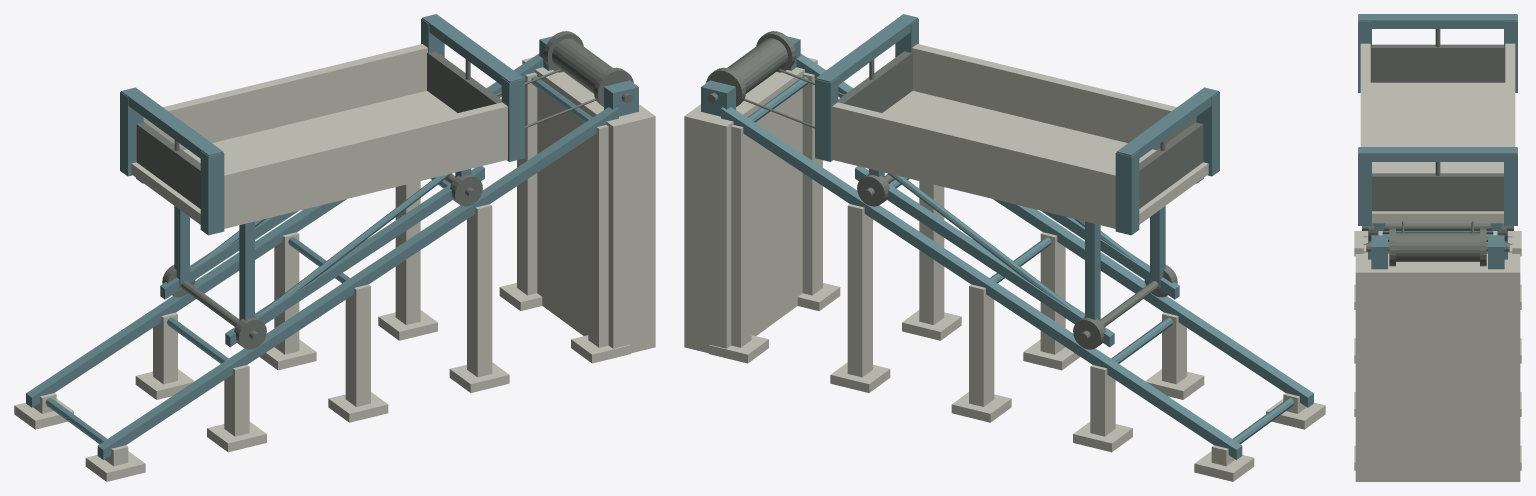
The picture shows the model from 3 angles, left to right: view 1: azimuth 30°, elevation 25°; view 2: azimuth 150°, elevation 25°; view 3: azimuth 270°, elevation 25°; orthographic projection. The views are drawn at different scales.
Parts seen in each view (by area): view 1: WholeLevelCaissonFloorAndSideWalls, WholeUpperHaulFoundation, NearWholeInclinedRail, FarWholeInclinedRail, NearWholeRailSupport4, NearWholeRailSupport3, FarWholeRailSupport4, NearWholeInclinedCarriageSill, NearWholeRailSupport2, LowEndWholeEndGateLeaf, WholeHaulDrum, FarWholeRailSupport3 (+29 smaller); view 2: WholeLevelCaissonFloorAndSideWalls, WholeUpperHaulFoundation, FarWholeInclinedRail, NearWholeInclinedRail, FarWholeRailSupport4, FarWholeRailSupport3, NearWholeRailSupport4, FarWholeInclinedCarriageSill, FarWholeRailSupport2, LowEndWholeEndGateLeaf, WholeHaulDrum, NearWholeRailSupport3 (+29 smaller); view 3: WholeUpperHaulFoundation, WholeLevelCaissonFloorAndSideWalls, LowEndWholeEndGateLeaf, HighEndWholeEndGateLeaf, WholeHaulDrum, LowEndWholeGatePortalCrosshead, HighEndWholeGatePortalCrosshead, HighEndWholeGateGuidePost0, HighEndWholeGateGuidePost1, WholeCarriageTransverseAxle1, WholeHaulBearingSeat0, WholeHaulBearingSeat1 (+5 smaller).
Boxes of the visible parts, box(x1,y1,x2,y2) form: WholeLevelCaissonFloorAndSideWalls: box(131, 44, 507, 228); WholeUpperHaulFoundation: box(522, 57, 655, 353); NearWholeInclinedRail: box(97, 107, 618, 459); FarWholeInclinedRail: box(26, 53, 543, 407); NearWholeRailSupport4: box(588, 125, 608, 347); NearWholeRailSupport3: box(467, 204, 492, 377); FarWholeRailSupport4: box(517, 72, 537, 295); NearWholeInclinedCarriageSill: box(225, 166, 484, 347); NearWholeRailSupport2: box(345, 284, 370, 406); LowEndWholeEndGateLeaf: box(136, 122, 200, 208); WholeHaulDrum: box(543, 31, 633, 106); FarWholeRailSupport3: box(395, 181, 420, 324); WholeLevelCaissonFloorAndSideWalls: box(832, 44, 1208, 228); WholeUpperHaulFoundation: box(684, 57, 817, 353); FarWholeInclinedRail: box(721, 107, 1242, 459); NearWholeInclinedRail: box(796, 53, 1313, 407); FarWholeRailSupport4: box(731, 125, 751, 347); FarWholeRailSupport3: box(847, 204, 872, 377); NearWholeRailSupport4: box(802, 72, 822, 295); FarWholeInclinedCarriageSill: box(855, 166, 1114, 347); FarWholeRailSupport2: box(969, 284, 994, 406); LowEndWholeEndGateLeaf: box(1139, 122, 1203, 208); WholeHaulDrum: box(706, 31, 796, 106); NearWholeRailSupport3: box(919, 181, 944, 324); WholeUpperHaulFoundation: box(1355, 254, 1520, 481); WholeLevelCaissonFloorAndSideWalls: box(1360, 43, 1515, 223); LowEndWholeEndGateLeaf: box(1370, 44, 1505, 82); HighEndWholeEndGateLeaf: box(1372, 173, 1503, 211); WholeHaulDrum: box(1389, 228, 1486, 266); LowEndWholeGatePortalCrosshead: box(1358, 14, 1517, 28); HighEndWholeGatePortalCrosshead: box(1358, 147, 1517, 161); HighEndWholeGateGuidePost0: box(1358, 147, 1371, 225); HighEndWholeGateGuidePost1: box(1504, 147, 1517, 225); WholeCarriageTransverseAxle1: box(1362, 223, 1513, 230); WholeHaulBearingSeat0: box(1371, 235, 1387, 269); WholeHaulBearingSeat1: box(1488, 235, 1504, 269).
Bounding box in the file's own units: 9.06 × 4.72 × 2.64.
